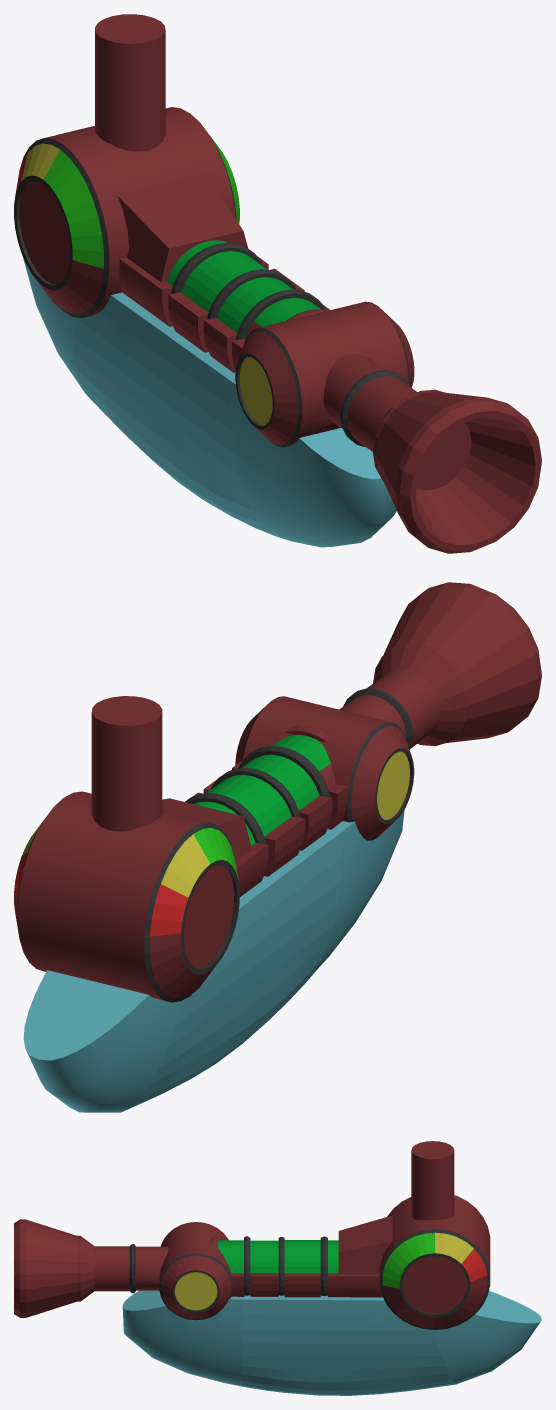
Rendered from Energy.fbx.
3 renders of one model, top to bottom at view 1: azimuth 30°, elevation 25°; view 2: azimuth 150°, elevation 25°; view 3: azimuth 270°, elevation 25°, orthographic. The views are drawn at different scales.
Parts seen in each view (by area): view 1: pCylinder16, pCylinder17; view 2: pCylinder16, pCylinder17; view 3: pCylinder16, pCylinder17.
Part boxes in pixels (x1,y1,x2,y2): pCylinder16: [14, 107, 541, 553]; pCylinder17: [95, 14, 165, 151]; pCylinder16: [14, 582, 541, 1112]; pCylinder17: [91, 696, 162, 831]; pCylinder16: [14, 1195, 541, 1395]; pCylinder17: [411, 1141, 454, 1220].
Size of the model in its own units: 9.51 by 22.04 by 43.1.
